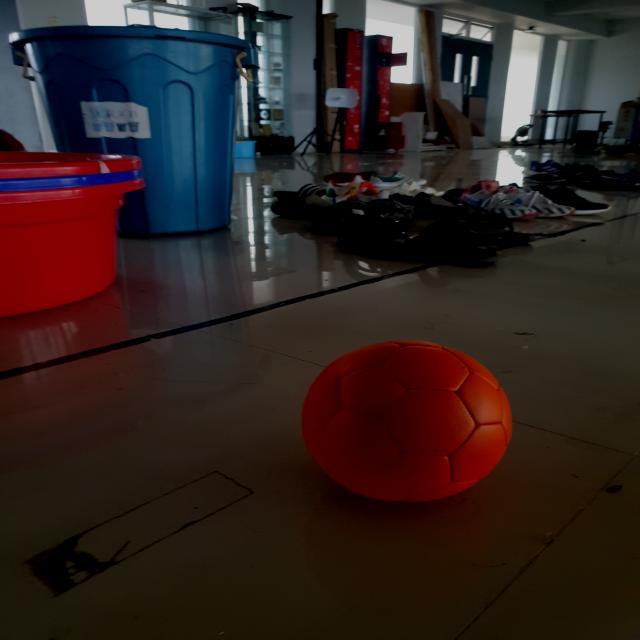bola: (295, 334, 520, 510)
